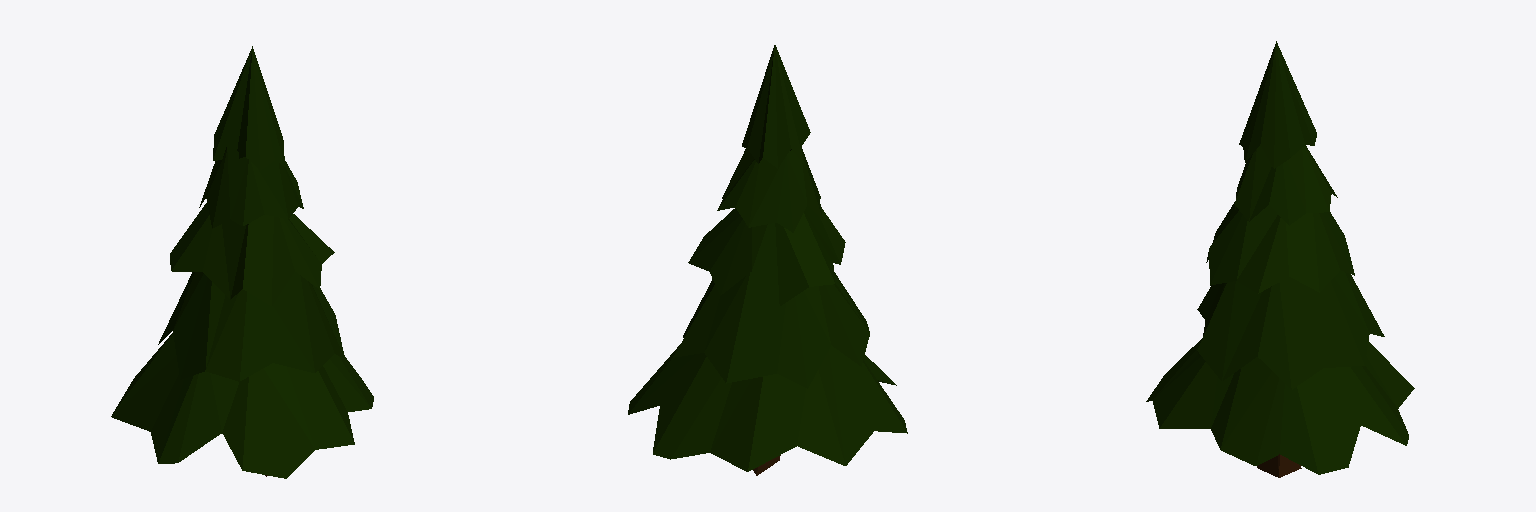
Rendered from pineTreeSingle.obj.
3 renders of one model, left to right at view 1: azimuth 30°, elevation 25°; view 2: azimuth 150°, elevation 25°; view 3: azimuth 270°, elevation 25°, orthographic.
Parts seen in each view (by area): view 1: Resource_PineTree_Cylinder.004; view 2: Resource_PineTree_Cylinder.004; view 3: Resource_PineTree_Cylinder.004.
Boxes of the visible parts, <box> form: Resource_PineTree_Cylinder.004: <box>111,46,373,478</box>; Resource_PineTree_Cylinder.004: <box>628,45,907,475</box>; Resource_PineTree_Cylinder.004: <box>1146,41,1414,477</box>.
Size of the model in its own units: 0.3577 by 0.6109 by 0.351.